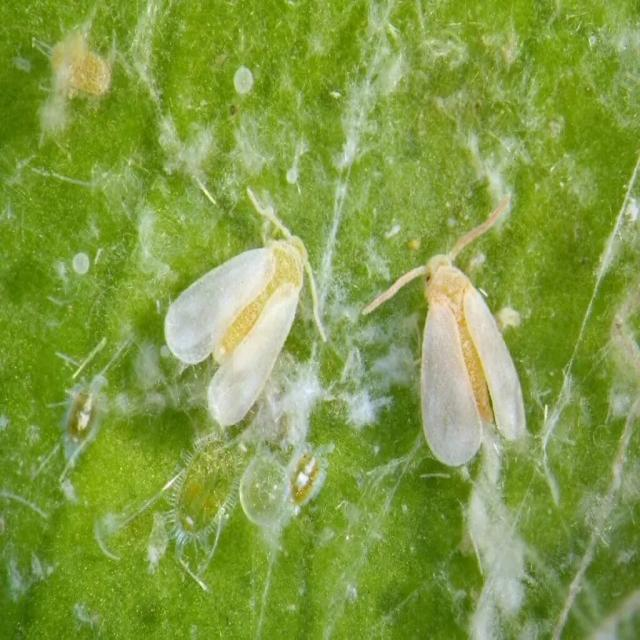Whitefly: (354, 190, 539, 474), (160, 168, 332, 442)
